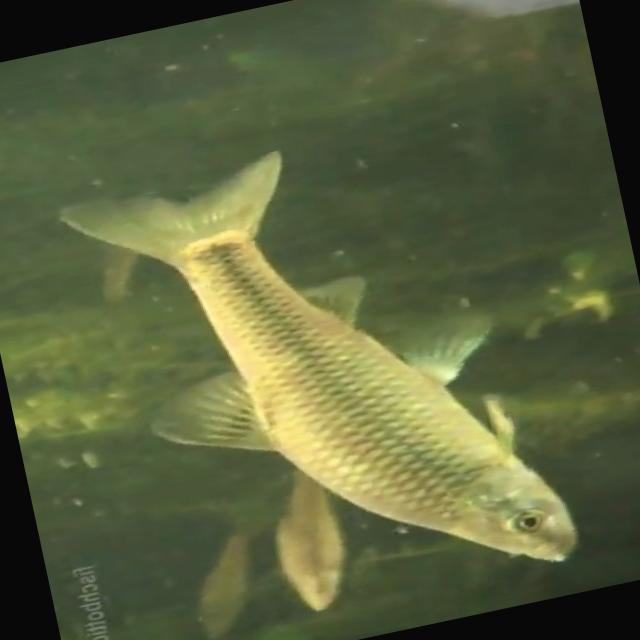Cakil Baligi: (44, 103, 600, 640)
